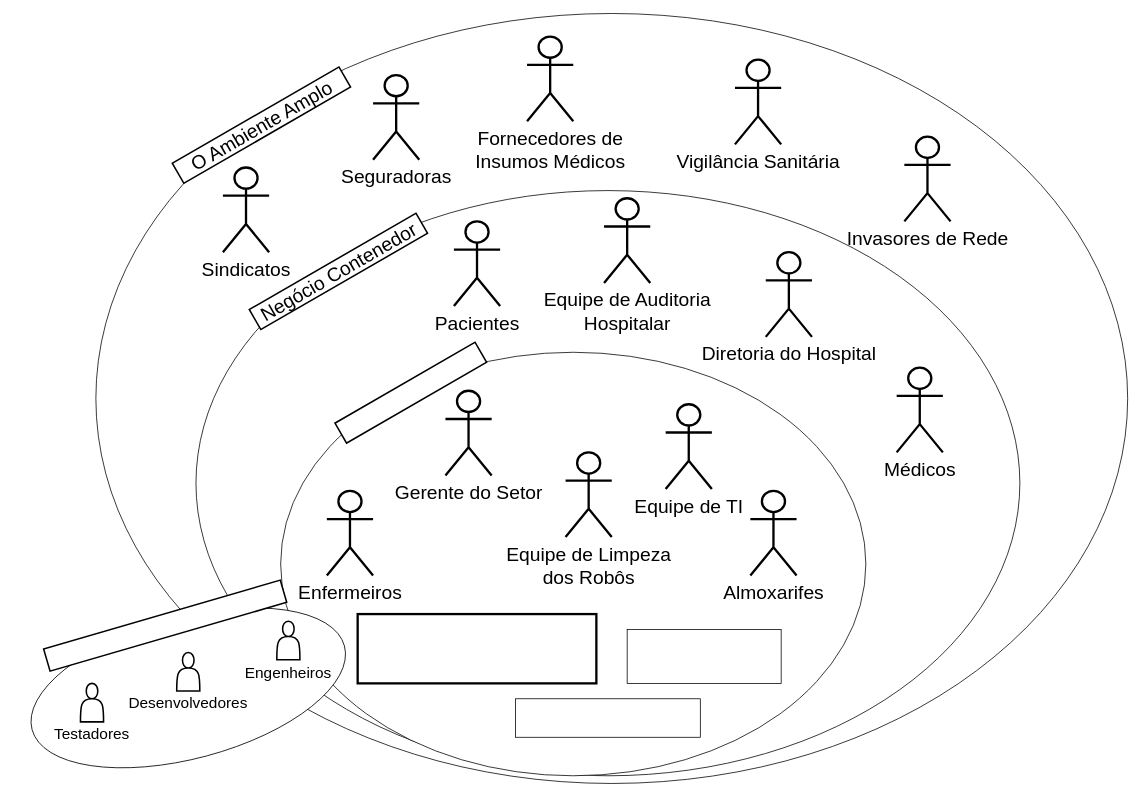
The diagram is 1141 pixels wide and 812 high, and some of its shapes have lost their labels. Here are the shapes that lost their labels. From the top down, the centre of each, then its label:
the point at 410,392: Área Operacional
the point at 164,625: Equipe de Desenvolvimento
the point at 476,648: Sistema de Gerenciamento de Robôs
the point at 703,656: Robôs Físicos
the point at 607,717: Sistema de Estoque
